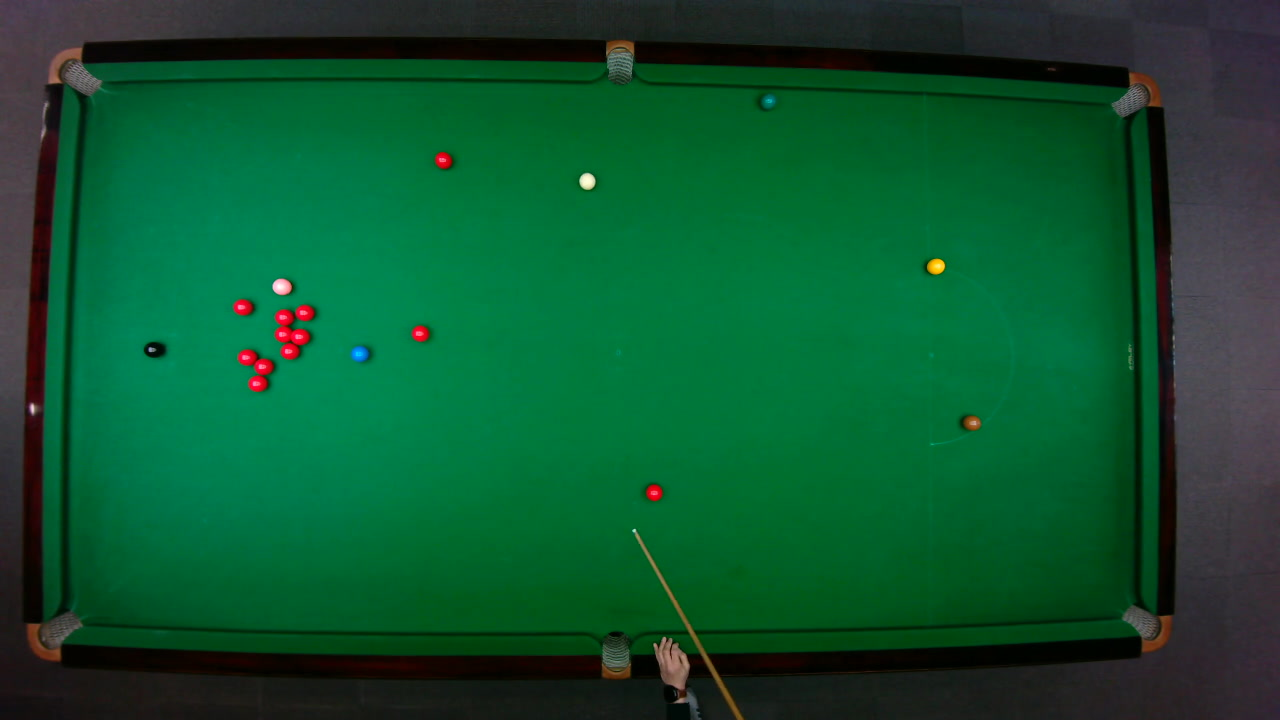bag: (25, 609, 84, 662), (46, 46, 102, 96), (1119, 603, 1172, 652), (1108, 71, 1162, 118), (601, 629, 629, 680), (605, 38, 633, 85)
black: (142, 340, 163, 357)
blue: (349, 344, 369, 362)
brown: (961, 414, 981, 430)
cue: (632, 528, 743, 720)
green: (759, 92, 776, 110)
pink: (271, 276, 292, 295)
red: (287, 326, 310, 345), (235, 347, 258, 366), (252, 356, 274, 375), (246, 374, 268, 392), (231, 297, 253, 315), (272, 307, 294, 325), (643, 482, 663, 501), (409, 324, 430, 342), (293, 303, 315, 320), (433, 150, 452, 169), (273, 325, 293, 342), (279, 342, 299, 359)
white: (577, 171, 596, 190)
yellow: (925, 256, 946, 275)
zone: (927, 266, 1013, 444)
